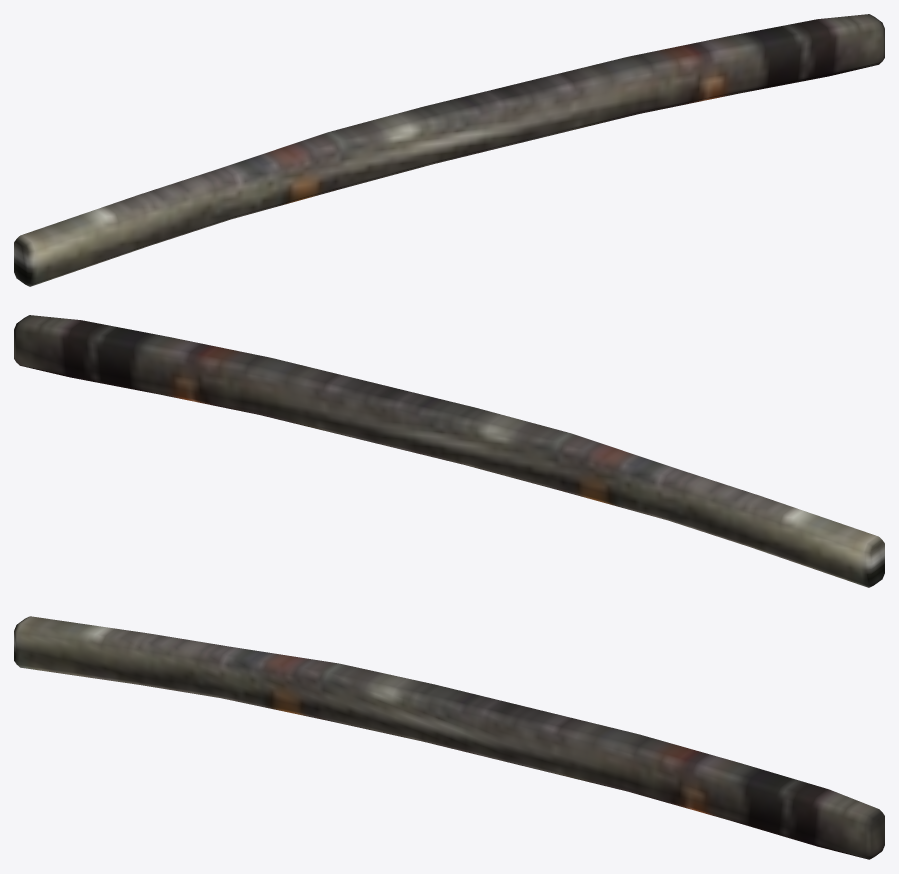
File: katana_sheath_3.FBX
The picture shows the model from 3 angles, top to bottom: view 1: azimuth 30°, elevation 25°; view 2: azimuth 150°, elevation 25°; view 3: azimuth 330°, elevation 25°; orthographic projection.
Visible parts, largest first — view 1: katana_sheath_1; view 2: katana_sheath_1; view 3: katana_sheath_1.
Boxes of the visible parts, left/top/right/bottom form: katana_sheath_1: left=14, top=14, right=884, bottom=286; katana_sheath_1: left=14, top=315, right=884, bottom=587; katana_sheath_1: left=14, top=616, right=884, bottom=859.
Bounding box in the file's own units: 90.1 × 7.41 × 3.43.
